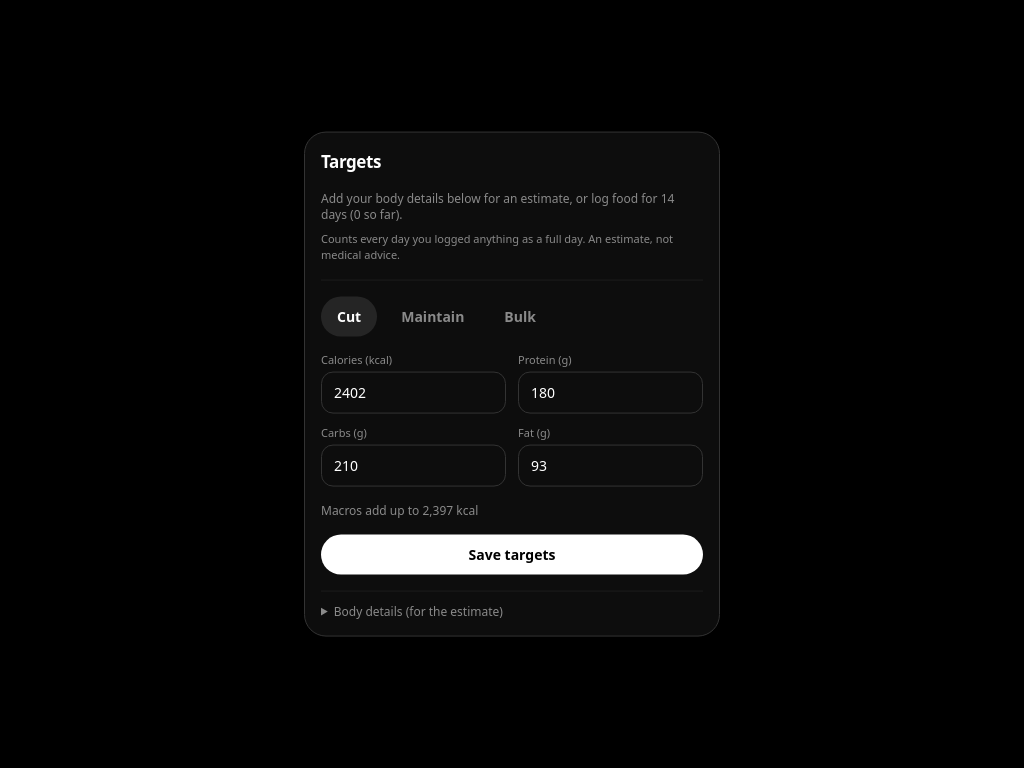
Test: TargetsSheet › says a height it can't read is wrong, instead of dropping it
This screenshot has width=1024, height=768.
Step 1. Click the heading "Body details (for the estimate)" → (418, 611), box left=334, top=602, right=503, bottom=619
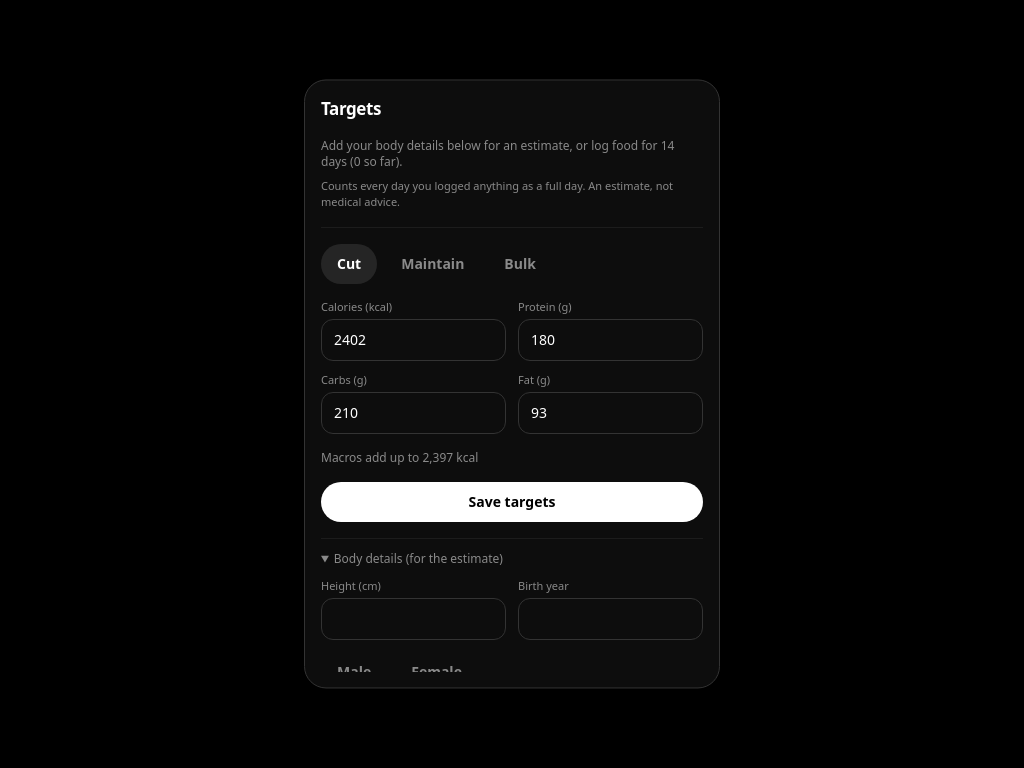
Step 2. Type "1.8m" into the field labelled "Height (cm)" → (414, 620), box left=321, top=598, right=506, bottom=640
(page scrolled)
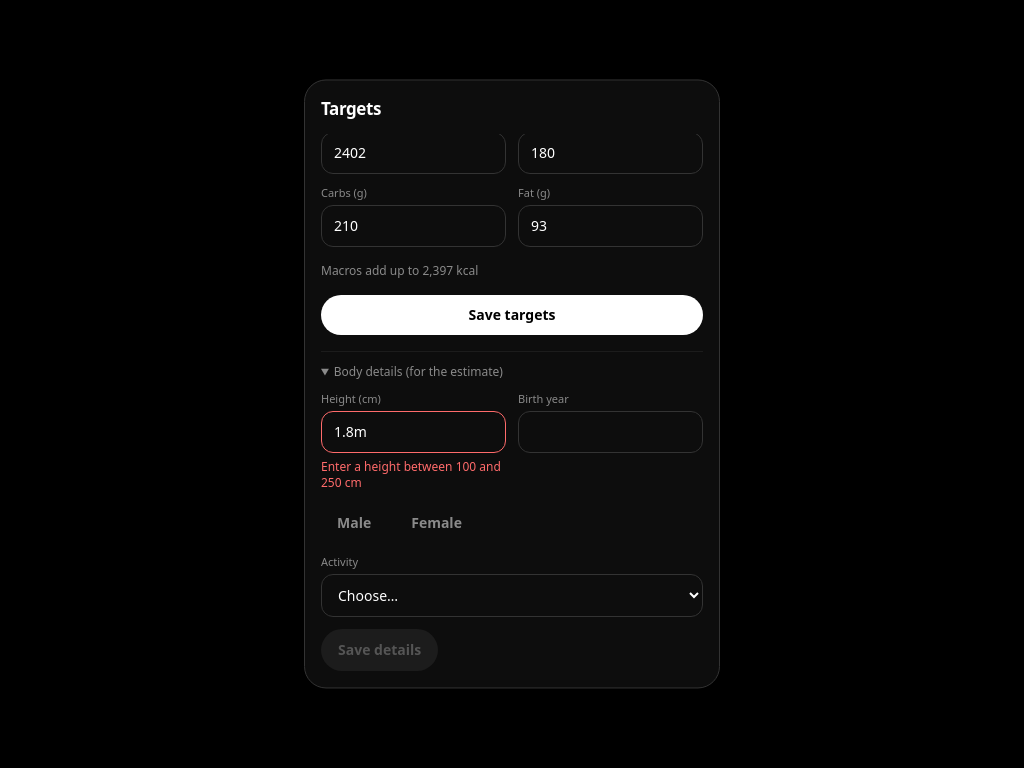
Expected: the text "Enter a height between 100 and 250 cm" is shown, left=321, top=460, right=506, bottom=492
Expected: the button "Save details" is disabled, left=321, top=630, right=438, bottom=672
